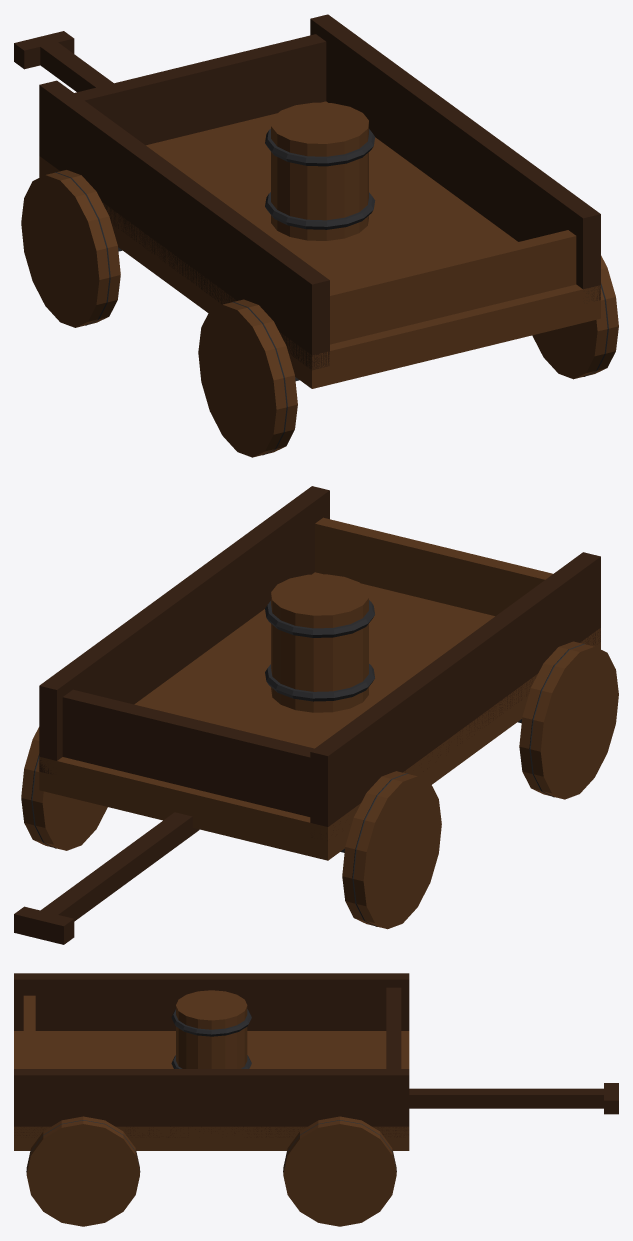
The model's file is merchant_wagon_4w.glb.
3 views of the same model, one above another, from view 1: azimuth 30°, elevation 25°; view 2: azimuth 150°, elevation 25°; view 3: azimuth 270°, elevation 25° (orthographic). The views are drawn at different scales.
Visible parts, largest first — view 1: FreightBed, RailLeft, RailRight, FrontRail, RearGate, Wheel0, Wheel2, CargoBeerBarrel, Wheel1, SingleHorseShaft, CargoBarrelHoop.001, CargoBarrelHoop (+1 smaller); view 2: FreightBed, RailLeft, RailRight, FrontRail, Wheel2, Wheel0, RearGate, CargoBeerBarrel, SingleHorseShaft, Wheel3, ShaftTip, CargoBarrelHoop (+1 smaller); view 3: RailRight, RailLeft, FreightBed, Wheel3, Wheel1, CargoBeerBarrel, SingleHorseShaft, FrontRail, RearGate, CargoBarrelHoop.001, ShaftTip.
Part boxes in pixels (bbox=[...]): FreightBed: bbox=[39, 101, 600, 388]; RailLeft: bbox=[39, 80, 329, 370]; RailRight: bbox=[310, 14, 600, 301]; FrontRail: bbox=[74, 34, 326, 145]; RearGate: bbox=[330, 230, 576, 344]; Wheel0: bbox=[198, 299, 297, 457]; Wheel2: bbox=[21, 170, 120, 327]; CargoBeerBarrel: bbox=[271, 102, 368, 240]; Wheel1: bbox=[532, 255, 618, 379]; SingleHorseShaft: bbox=[40, 37, 113, 92]; CargoBarrelHoop.001: bbox=[265, 129, 374, 166]; CargoBarrelHoop: bbox=[265, 192, 375, 229]; FreightBed: bbox=[39, 572, 600, 860]; RailLeft: bbox=[310, 552, 600, 840]; RailRight: bbox=[39, 486, 329, 774]; FrontRail: bbox=[62, 689, 314, 816]; Wheel2: bbox=[342, 771, 441, 929]; Wheel0: bbox=[519, 641, 618, 799]; RearGate: bbox=[315, 517, 552, 616]; CargoBeerBarrel: bbox=[271, 574, 368, 712]; SingleHorseShaft: bbox=[33, 812, 199, 921]; Wheel3: bbox=[21, 727, 107, 850]; ShaftTip: bbox=[14, 906, 74, 944]; CargoBarrelHoop: bbox=[265, 664, 374, 701]; RailRight: bbox=[14, 1069, 409, 1137]; RailLeft: bbox=[14, 973, 409, 1030]; FreightBed: bbox=[14, 1031, 409, 1150]; Wheel3: bbox=[283, 1116, 396, 1226]; Wheel1: bbox=[26, 1116, 139, 1226]; CargoBeerBarrel: bbox=[176, 990, 247, 1068]; SingleHorseShaft: bbox=[409, 1088, 615, 1108]; FrontRail: bbox=[386, 987, 401, 1068]; RearGate: bbox=[23, 995, 35, 1068]; CargoBarrelHoop.001: bbox=[171, 1009, 251, 1036]; ShaftTip: bbox=[604, 1083, 618, 1114].
Bounding box in the file's own units: 1.92 × 1.19 × 4.06.
Materials: 3 (3 with a texture image).
